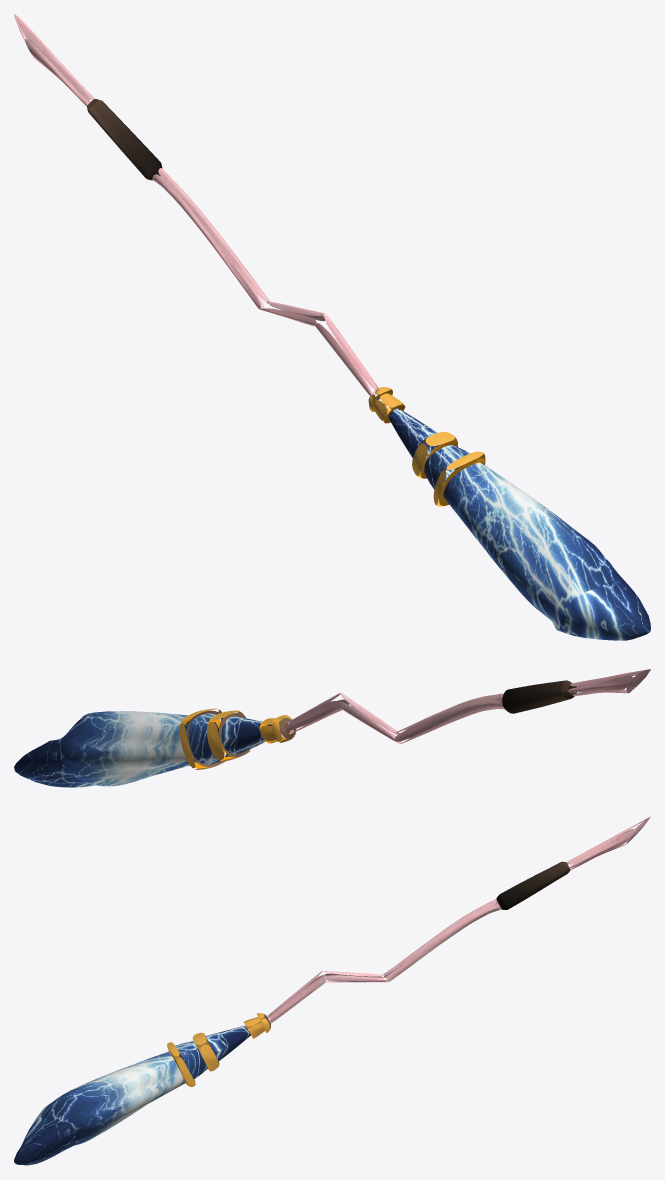
Rendered from pinkLightning.glb.
3 renders of one model, top to bottom at view 1: azimuth 30°, elevation 25°; view 2: azimuth 210°, elevation 25°; view 3: azimuth 270°, elevation 25°, orthographic. The views are drawn at different scales.
Parts seen in each view (by area): view 1: MainStick; view 2: MainStick; view 3: MainStick.
Part boxes in pixels (x1,y1,x2,y2): MainStick: (14,14,650,640); MainStick: (14,669,650,787); MainStick: (14,817,650,1165).
Bounding box in the file's own units: 4.77 × 7.8 × 16.2.
1 material, 1 textured.
